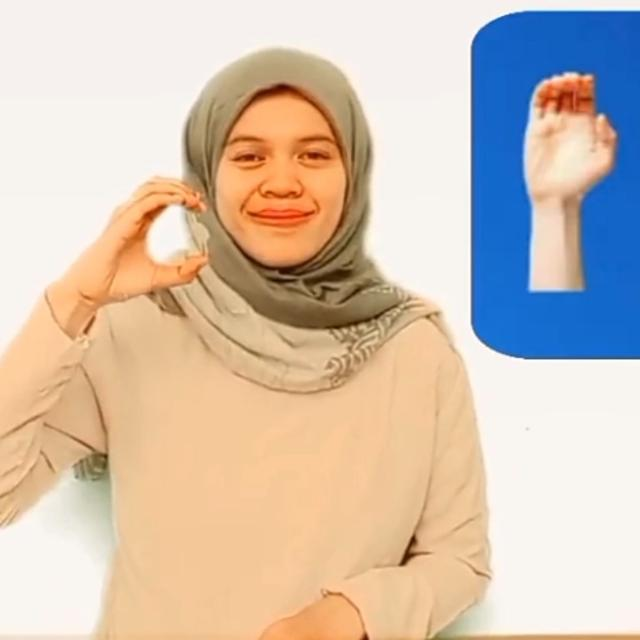C: (67, 172, 211, 310)
